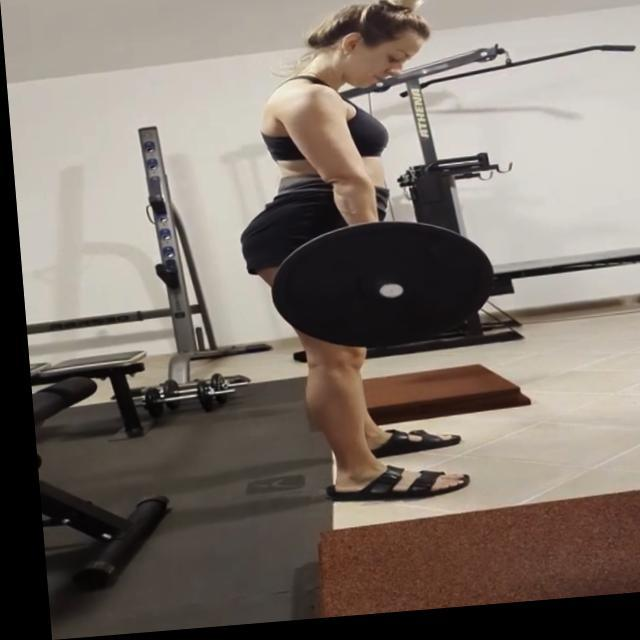barbell: (257, 216, 501, 363)
